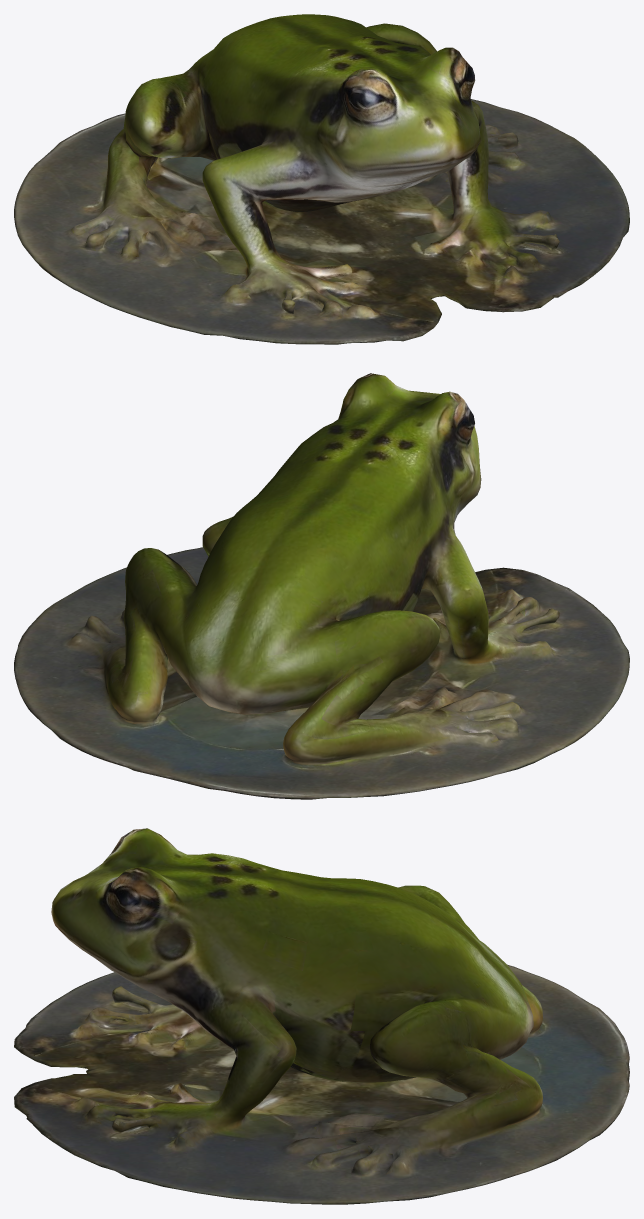
Rendered from giant-frog.glb.
3 views of the same model, one above another, from view 1: azimuth 30°, elevation 25°; view 2: azimuth 150°, elevation 25°; view 3: azimuth 270°, elevation 25° (orthographic).
Size of the model in its own units: 2 by 0.8025 by 1.97.
Materials: 1 (1 with a texture image).
